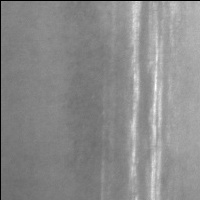scratches: (148, 2, 168, 200), (129, 2, 144, 178)
